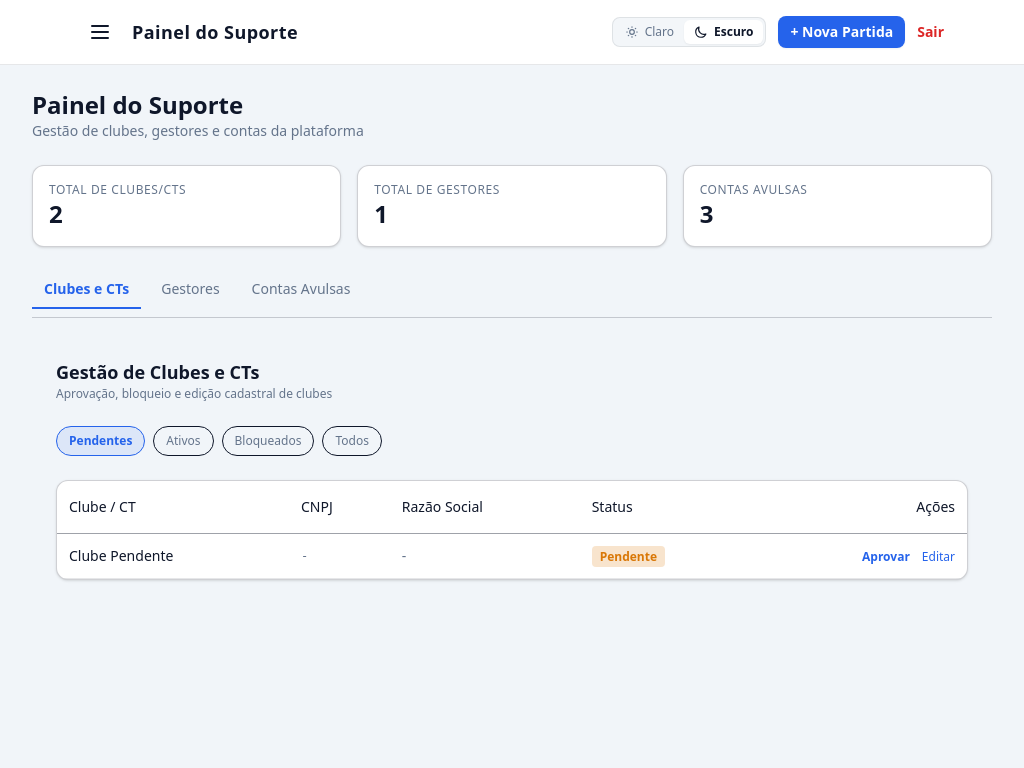
SuportePageContent (página do Painel do Suporte) › troca para a aba Contas Avulsas e exibe os cards
The image size is (1024, 768).
Click the button "Contas Avulsas": (301, 290) top-left (240, 271), bottom-right (362, 309)
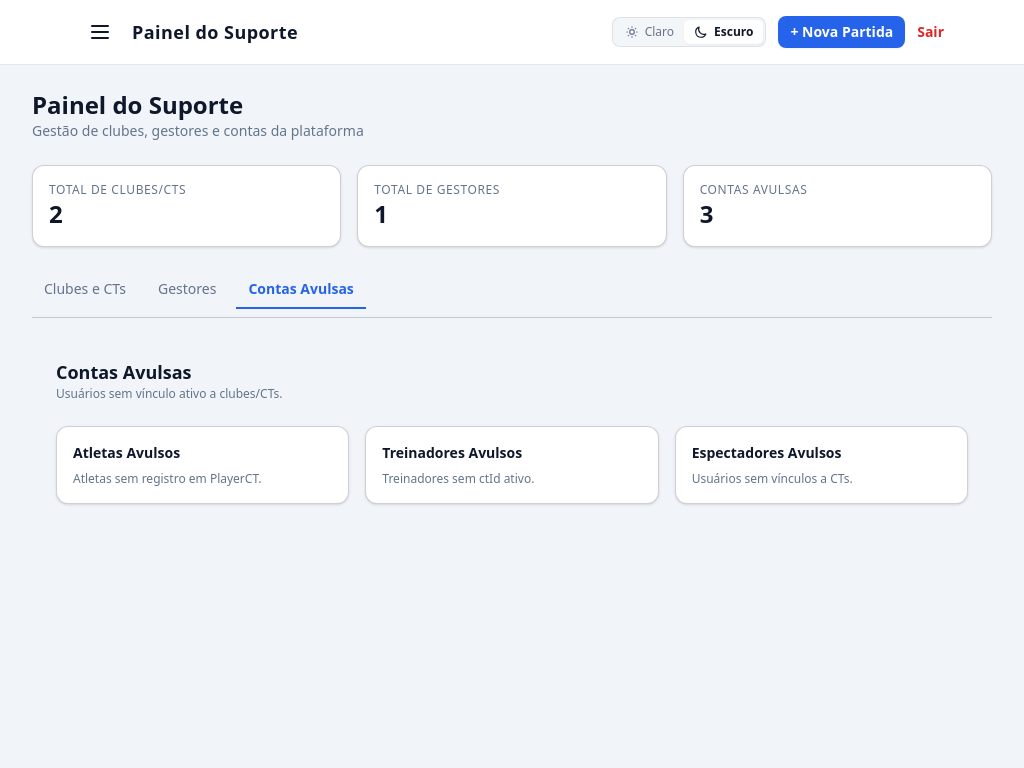
Expected: the heading "Atletas Avulsos" is shown, top-left (73, 443), bottom-right (180, 462)
Expected: the heading "Treinadores Avulsos" is shown, top-left (382, 443), bottom-right (522, 462)
Expected: the heading "Espectadores Avulsos" is shown, top-left (692, 443), bottom-right (842, 462)
